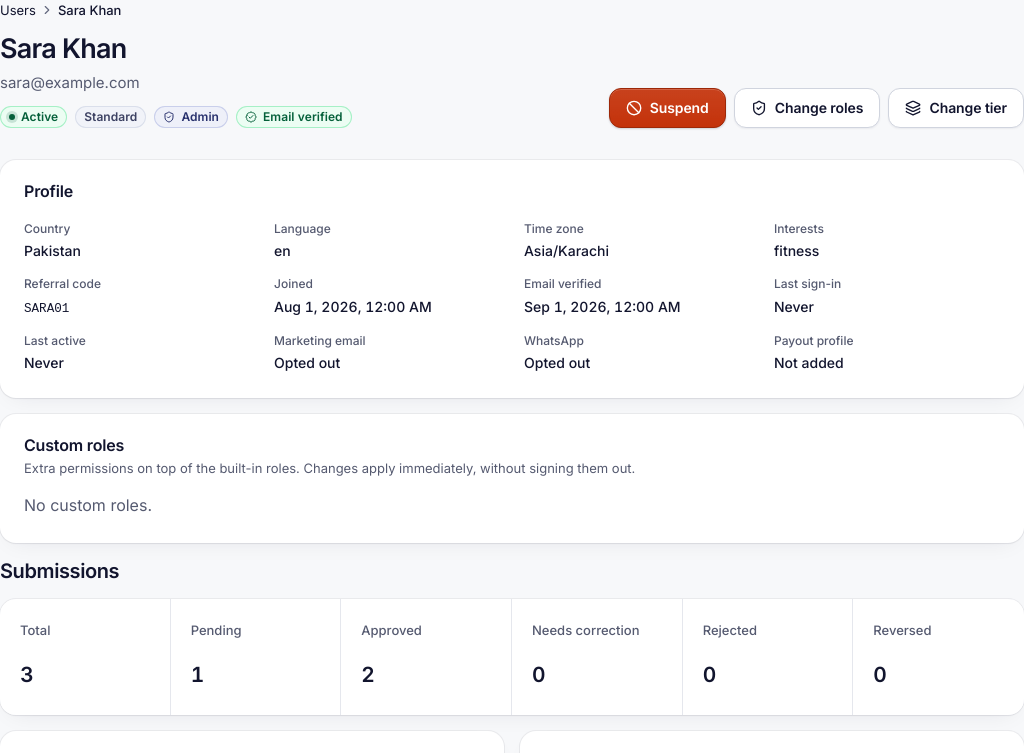
Test: User detail — roles › maps admin.last_admin and validation errors
Click the button "Change roles".
click(807, 108)  # box [734,88,880,128]
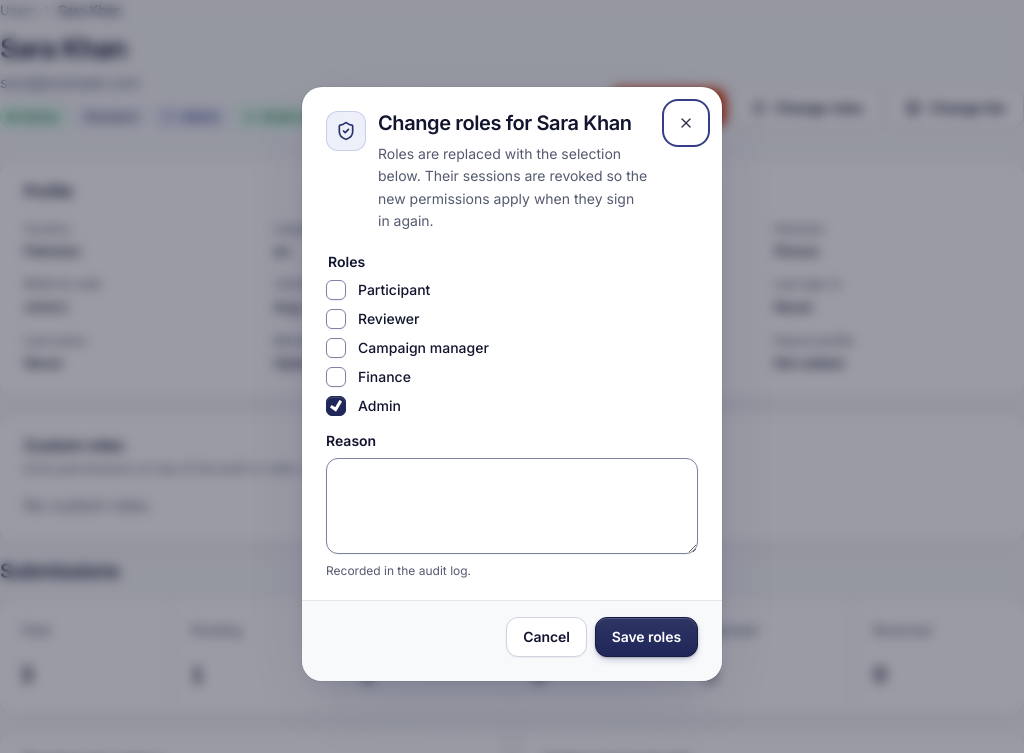
Click the checkbox labelled "Admin".
click(336, 406)  # box [326,396,346,416]
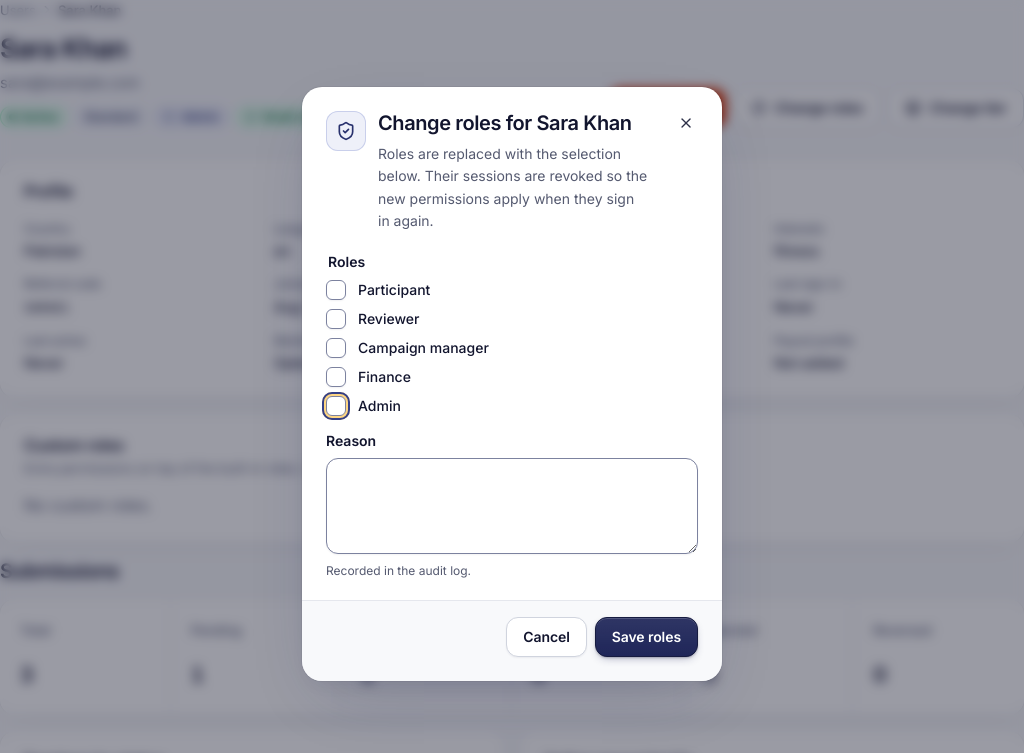
Click the checkbox labelled "Finance".
click(336, 377)  # box [326,367,346,387]
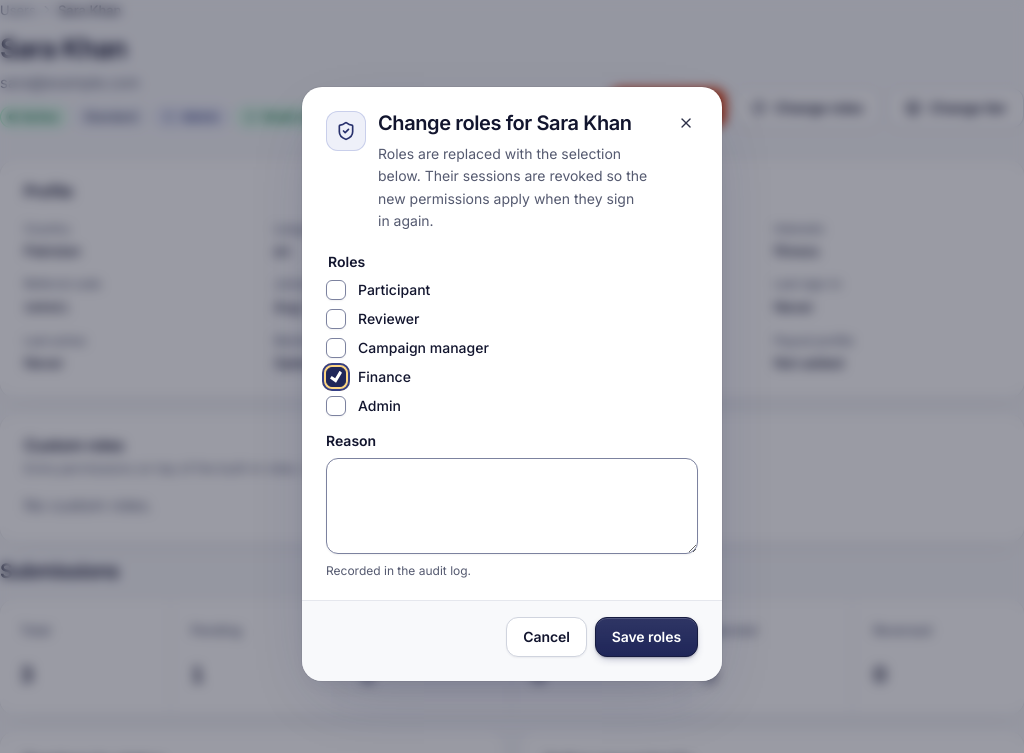
Type "Moving to finance" into the text box labelled "Reason".
click(512, 506); type("Moving to finance")  # box [326,458,698,554]
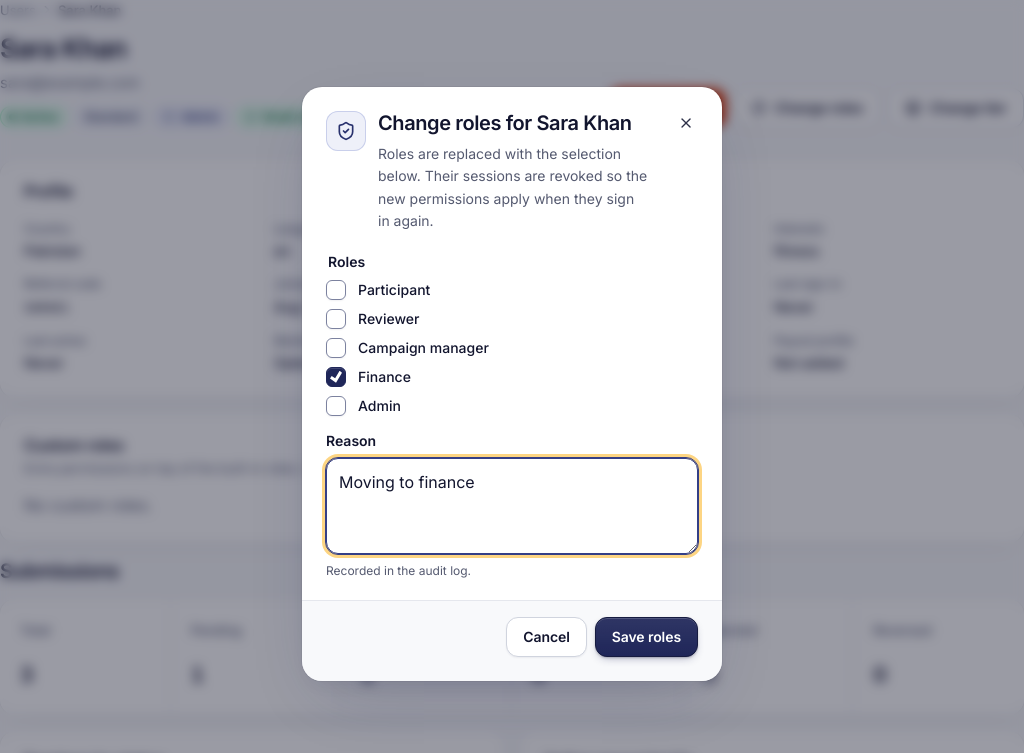
Click the button "Save roles".
click(646, 637)  # box [595,617,698,657]
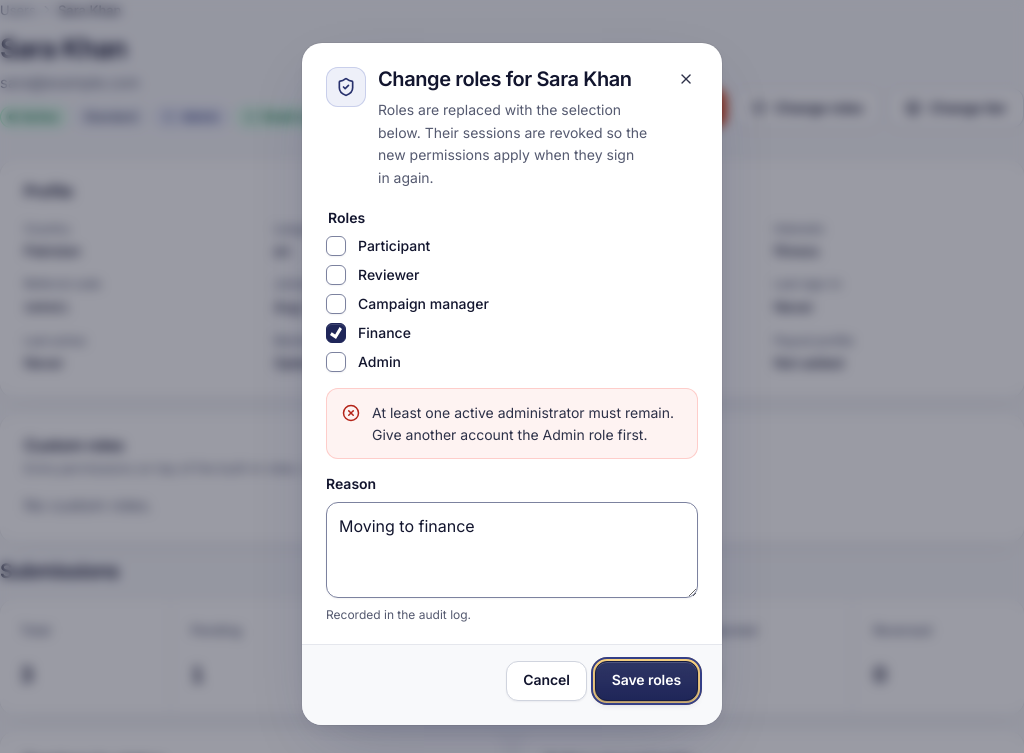
Result: the message shows "At least one active administrator must remain" at [372,404,674,443]
Click the button "Save roles".
click(646, 681)  # box [595,661,698,701]
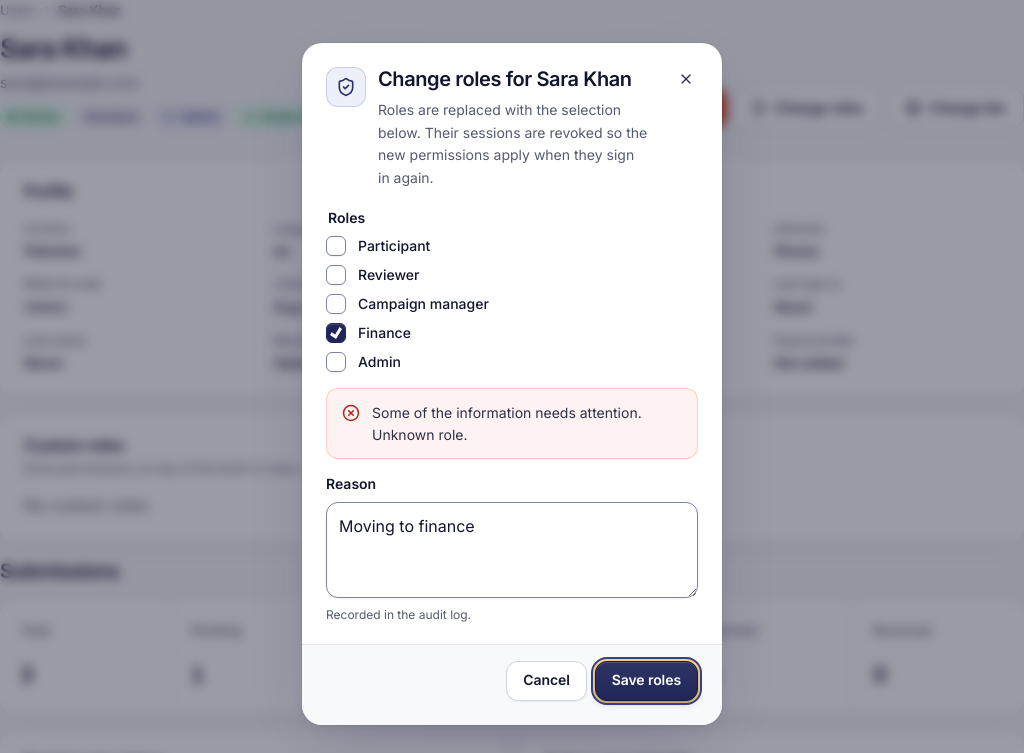
Result: the message shows "Unknown role." at [372,404,642,443]
